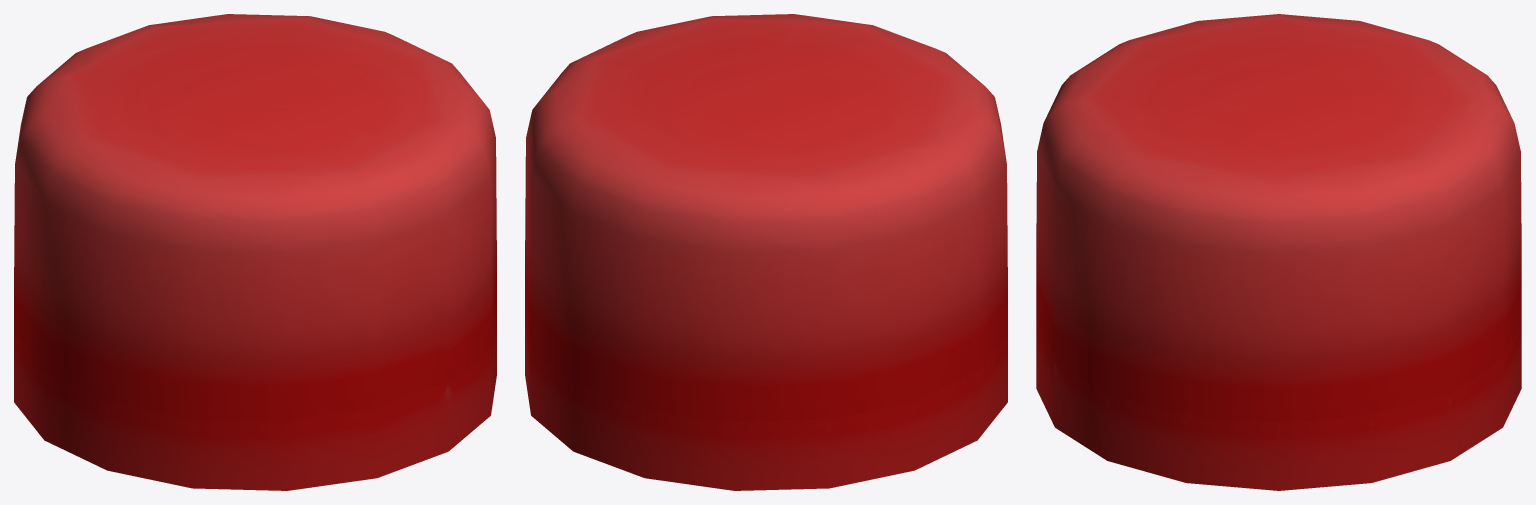
Rendered from Button.fbx.
3 views of the same model, side by side, from view 1: azimuth 30°, elevation 25°; view 2: azimuth 150°, elevation 25°; view 3: azimuth 270°, elevation 25° (orthographic).
Parts seen in each view (by area): view 1: Cylinder.001; view 2: Cylinder.001; view 3: Cylinder.001.
Part boxes in pixels (bbox=[...]): Cylinder.001: bbox=[14, 14, 496, 490]; Cylinder.001: bbox=[525, 14, 1007, 490]; Cylinder.001: bbox=[1036, 14, 1521, 490].
Bounding box in the file's own units: 142 × 94 × 142.
1 material, 1 textured.
